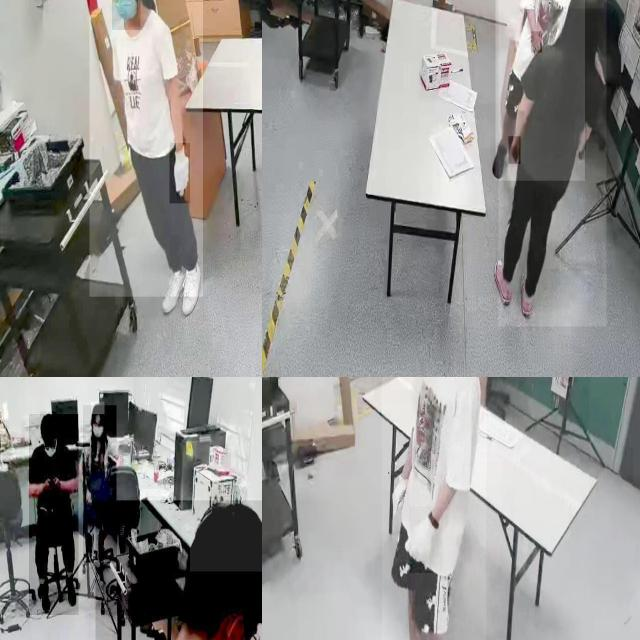face_mask: (207, 607, 256, 640), (111, 0, 140, 30)
glasses: (108, 0, 134, 5)
hand_glove: (409, 506, 443, 574), (170, 143, 190, 204), (390, 471, 410, 521)
hand_noglove: (509, 136, 521, 165), (531, 32, 543, 54), (43, 476, 53, 494), (52, 474, 61, 492)
head_nohelmet: (190, 497, 262, 572), (569, 0, 604, 24), (40, 411, 57, 431), (91, 402, 105, 415)
person: (498, 0, 607, 327), (89, 0, 203, 297), (382, 377, 487, 640), (95, 500, 262, 640), (495, 0, 584, 180), (29, 414, 79, 616), (83, 406, 117, 564)
shoes: (180, 250, 203, 320), (160, 264, 183, 315), (493, 257, 512, 310), (519, 267, 535, 318), (61, 569, 78, 611), (38, 580, 52, 617)
